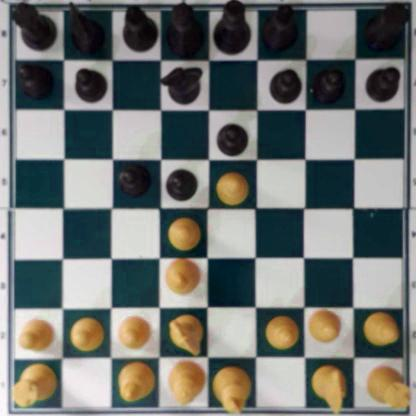black-bishop: (120, 3, 158, 52), (262, 1, 300, 49)
black-king: (211, 1, 250, 55)
black-knight: (66, 5, 104, 52), (159, 65, 202, 101)
black-pawn: (16, 62, 52, 99), (214, 120, 248, 157), (364, 65, 399, 100), (115, 161, 151, 195), (71, 66, 104, 102), (266, 66, 299, 102), (163, 166, 196, 201), (311, 66, 344, 101)
black-queen: (166, 1, 203, 57)
black-rook: (362, 1, 410, 53), (12, 1, 58, 53)
white-bishop: (117, 358, 152, 401), (164, 257, 200, 294)
white-king: (213, 361, 247, 411)
white-knight: (310, 361, 345, 411), (166, 313, 203, 355)
white-pawn: (362, 310, 397, 346), (262, 312, 297, 347), (115, 313, 150, 348), (305, 307, 339, 343), (17, 318, 54, 351), (69, 317, 104, 351), (166, 213, 201, 247), (213, 168, 247, 202)
white-queen: (167, 359, 205, 407)
white-rook: (11, 363, 57, 407), (364, 363, 408, 409)
